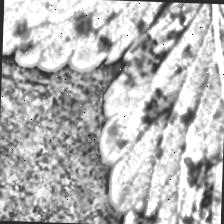Angular Leafspot: (95, 0, 224, 224), (1, 0, 200, 76)
